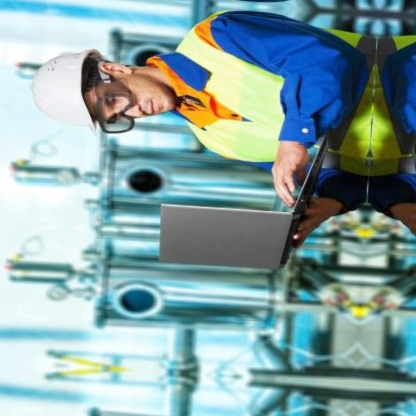vest: (151, 1, 379, 188)
white: (20, 32, 116, 146)
